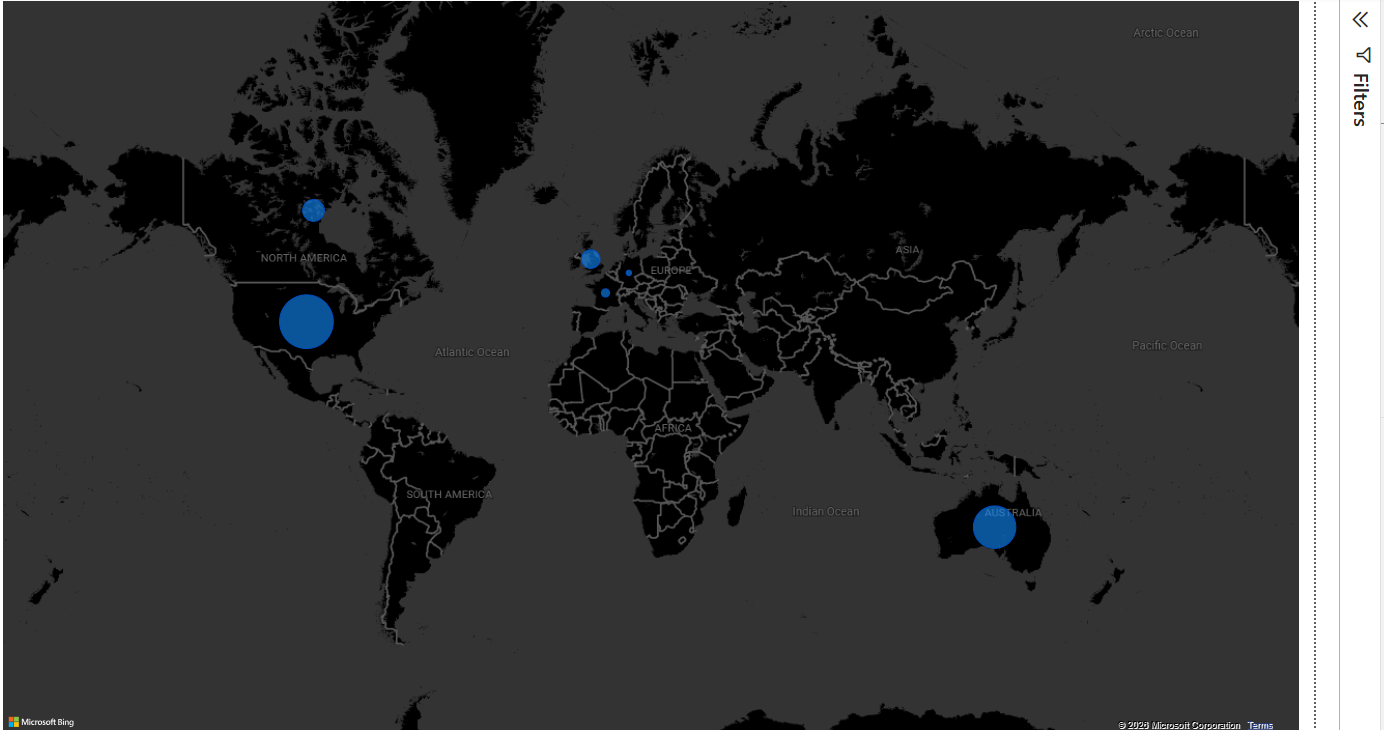

What the dashboard file says about the page in this screenshot:
{"tool":"powerbi","page":{"name":"Map","canvas":[1280,720],"ordinal":4},"visuals":[{"type":"map","fields":{"Category":[" Territory Lookup.Country"],"Size":["Table.TotalOrders"]},"box":[10,0,1260,720],"z":0}]}

Visuals, with their boxes on the page's 1280x720 design canvas (x1, y1, x2, y2). These are canvas units, not pixel positions in the 1384x730 screenshot, which may show the page scaled, cropped or inside an application window:
map -  Territory Lookup.Country x Table.TotalOrders: box=[10, 0, 1270, 720]
